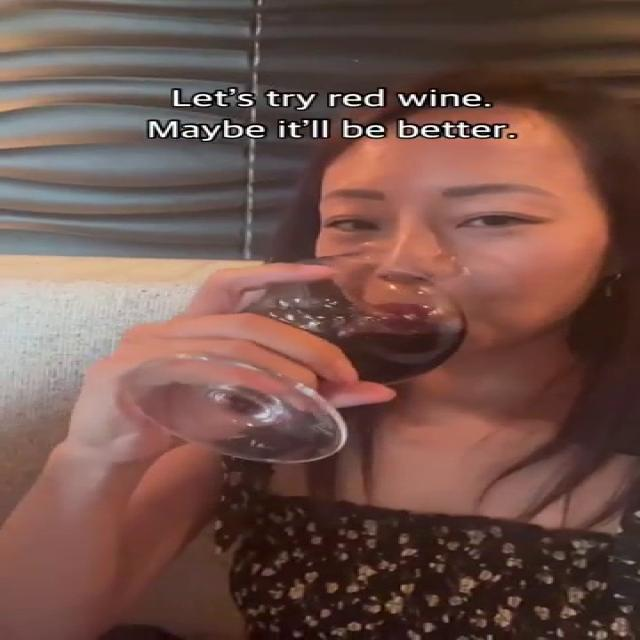Cup: (132, 248, 476, 463)
Hand: (85, 257, 408, 468)
Mouth: (366, 294, 447, 328)
